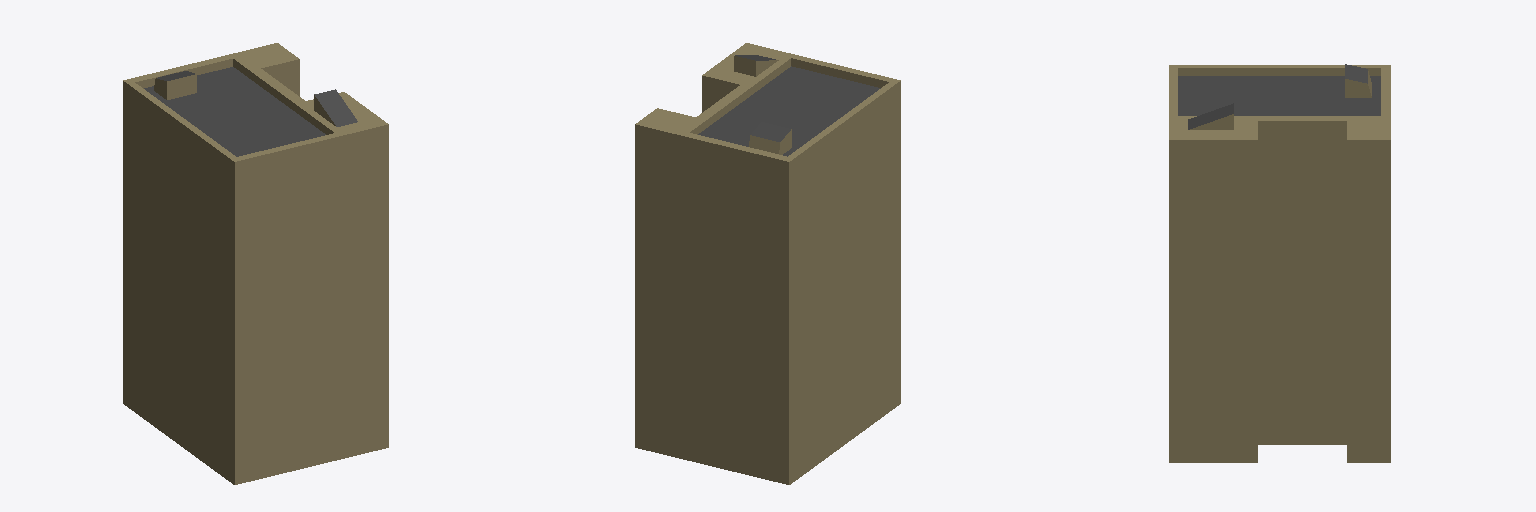
File: highrise_8.obj
The picture shows the model from 3 angles: view 1: azimuth 30°, elevation 25°; view 2: azimuth 150°, elevation 25°; view 3: azimuth 270°, elevation 25°; orthographic projection.
Parts seen in each view (by area): view 1: Mesh1 Model; view 2: Mesh1 Model; view 3: Mesh1 Model.
Boxes of the visible parts, <box> form: Mesh1 Model: <box>123,43,388,484</box>; Mesh1 Model: <box>635,43,900,484</box>; Mesh1 Model: <box>1169,64,1390,462</box>.
Size of the model in its own units: 20 by 42 by 25.